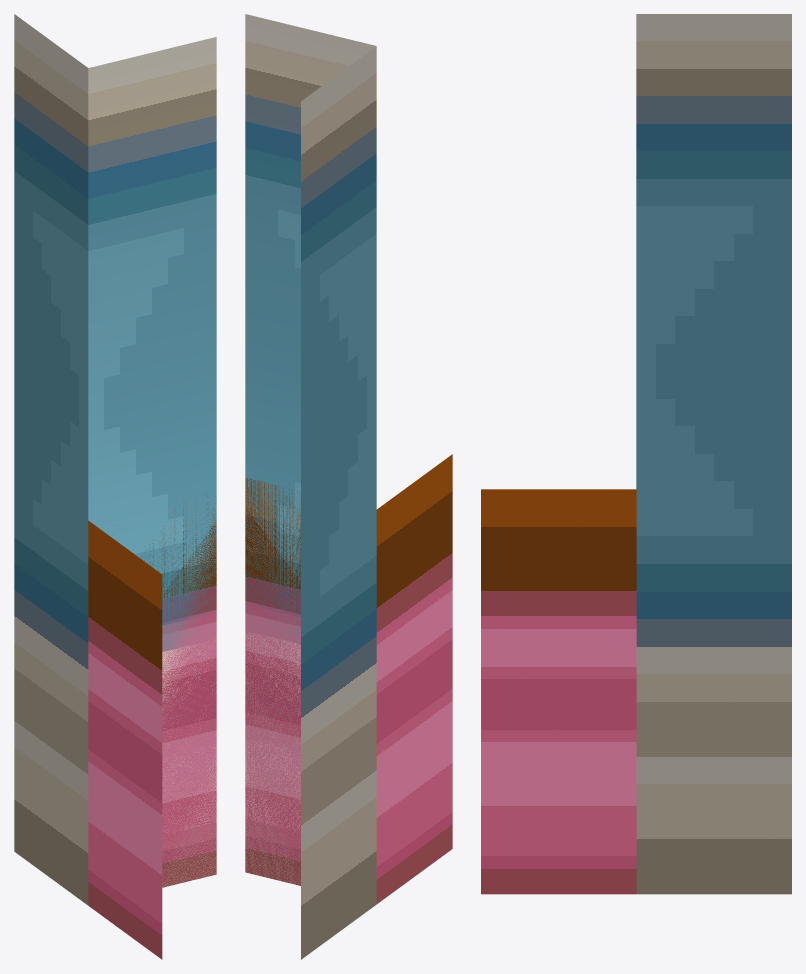
The picture shows the model from 3 angles, left to right: view 1: azimuth 30°, elevation 25°; view 2: azimuth 150°, elevation 25°; view 3: azimuth 270°, elevation 25°; orthographic projection. The views are drawn at different scales.
Bounding box in the file's own units: 0.5 × 3.12 × 1.
Materials: 2 (2 with a texture image).
